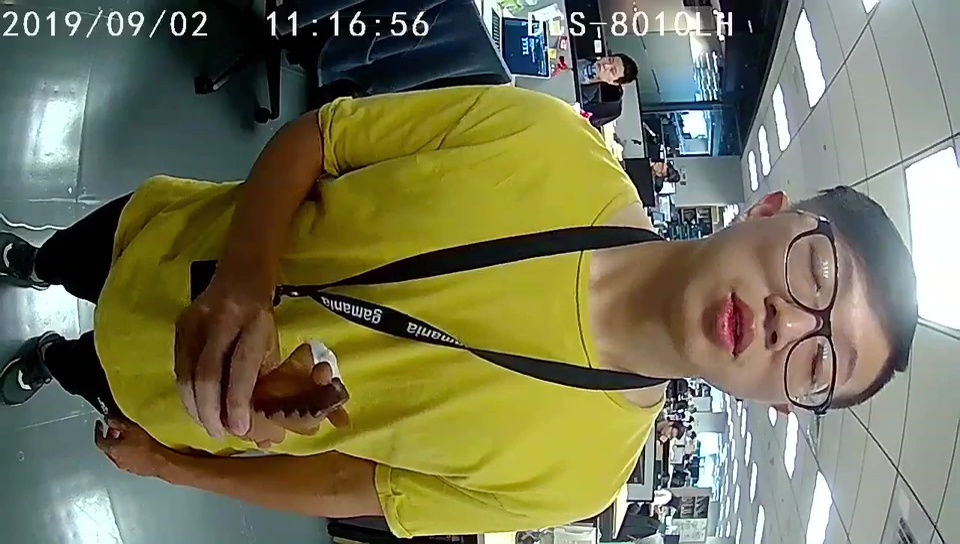horse: (255, 338, 350, 444)
